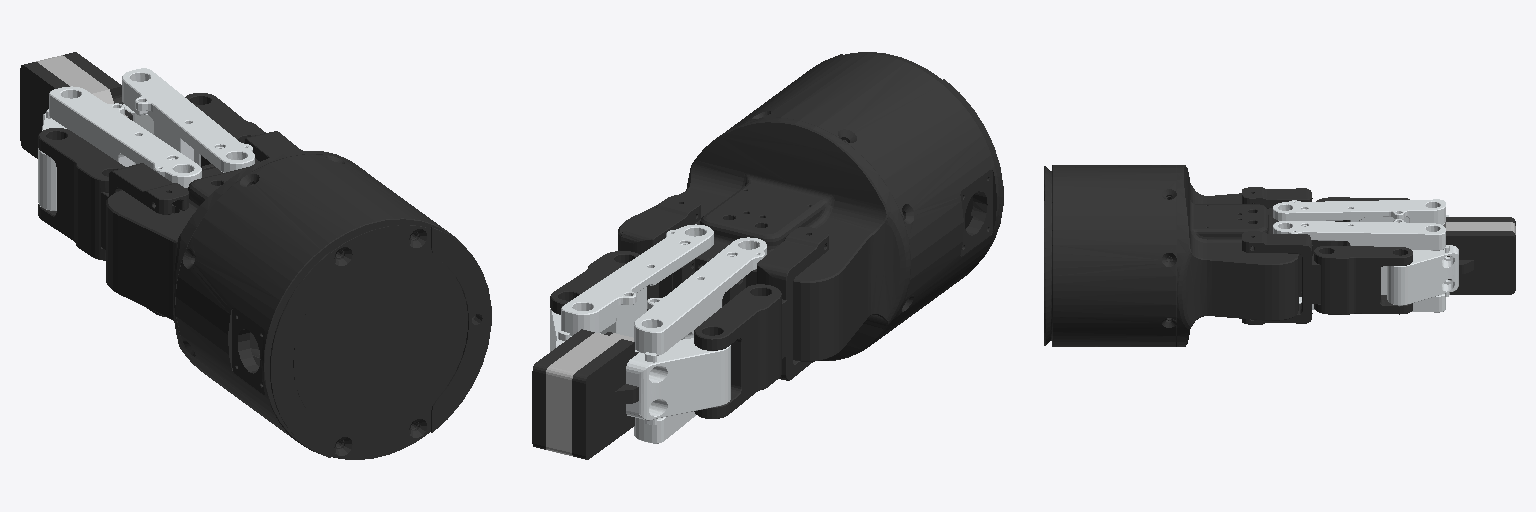
The robot description file, URDF, robot "eg01_p55_sw2urdf":
<?xml version="1.0" encoding="utf-8"?>
<!-- This URDF was automatically created by SolidWorks to URDF Exporter! Originally created by [author] ([email redacted]) 
     Commit Version: 1.6.0-4-g7f85cfe  Build Version: 1.6.7995.38578
     For more information, please see http://wiki.ros.org/sw_urdf_exporter -->
<robot
  name="eg01_p55_sw2urdf">

  <mujoco>
    <compiler meshdir="..\meshes" balanceinertia="false" discardvisual="false"/>
  </mujoco>

  <link
    name="base_link">
    <inertial>
      <origin
        xyz="7.4459E-05 0.053985 6.0593E-06"
        rpy="0 0 0" />
      <mass
        value="0.42958" />
      <inertia
        ixx="0.00029896"
        ixy="6.2368E-07"
        ixz="8.6388E-12"
        iyy="0.00041395"
        iyz="1.8987E-08"
        izz="0.0003993" />
    </inertial>
    <visual>
      <origin
        xyz="0 0 0"
        rpy="0 0 0" />
      <geometry>
        <mesh
          filename="package://eg01_p55_sw2urdf/meshes/base_link.STL" />
      </geometry>
      <material
        name="">
        <color
          rgba="0.25098 0.25098 0.25098 1" />
      </material>
    </visual>
    <collision>
      <origin
        xyz="0 0 0"
        rpy="0 0 0" />
      <geometry>
        <mesh
          filename="package://eg01_p55_sw2urdf/meshes/base_link.STL" />
      </geometry>
    </collision>
  </link>
  <link
    name="Left_L1">
    <inertial>
      <origin
        xyz="1.439E-07 -3.3486E-09 0.021139"
        rpy="0 0 0" />
      <mass
        value="0.020296" />
      <inertia
        ixx="6.3027E-06"
        ixy="4.4754E-13"
        ixz="-2.9813E-09"
        iyy="2.9263E-06"
        iyz="8.3466E-14"
        izz="3.8709E-06" />
    </inertial>
    <visual>
      <origin
        xyz="0 0 0"
        rpy="0 0 0" />
      <geometry>
        <mesh
          filename="package://eg01_p55_sw2urdf/meshes/Left_L1.STL" />
      </geometry>
      <material
        name="">
        <color
          rgba="0.25098 0.25098 0.25098 1" />
      </material>
    </visual>
    <collision>
      <origin
        xyz="0 0 0"
        rpy="0 0 0" />
      <geometry>
        <mesh
          filename="package://eg01_p55_sw2urdf/meshes/Left_L1.STL" />
      </geometry>
    </collision>
  </link>
  <joint
    name="Left_J1"
    type="revolute">
    <origin
      xyz="-0.024 0.0957 0"
      rpy="-1.5708 0 0.043669" />
    <parent
      link="base_link" />
    <child
      link="Left_L1" />
    <axis
      xyz="0 1 0" />
    <limit
      lower="-1.571"
      upper="1.571"
      effort="50"
      velocity="50" />
  </joint>
  <link
    name="Left_L2">
    <inertial>
      <origin
        xyz="-0.00064719 -2.925E-09 0.015675"
        rpy="0 0 0" />
      <mass
        value="0.023378" />
      <inertia
        ixx="4.192E-06"
        ixy="3.5171E-14"
        ixz="-9.5197E-08"
        iyy="2.3374E-06"
        iyz="1.0934E-12"
        izz="2.5072E-06" />
    </inertial>
    <visual>
      <origin
        xyz="0 0 0"
        rpy="0 0 0" />
      <geometry>
        <mesh
          filename="package://eg01_p55_sw2urdf/meshes/Left_L2.STL" />
      </geometry>
      <material
        name="">
        <color
          rgba="0.25098 0.25098 0.25098 1" />
      </material>
    </visual>
    <collision>
      <origin
        xyz="0 0 0"
        rpy="0 0 0" />
      <geometry>
        <mesh
          filename="package://eg01_p55_sw2urdf/meshes/Left_L2.STL" />
      </geometry>
    </collision>
  </link>
  <joint
    name="Left_J2"
    type="revolute">
    <origin
      xyz="0 0 0.034"
      rpy="0 0 0" />
    <parent
      link="Left_L1" />
    <child
      link="Left_L2" />
    <axis
      xyz="0 -1 0" />
    <limit
      lower="-1.571"
      upper="1.571"
      effort="50"
      velocity="50" />
  </joint>
  <link
    name="Left_L3">
    <inertial>
      <origin
        xyz="-0.0011614 -1.4301E-10 0.011796"
        rpy="0 0 0" />
      <mass
        value="0.021391" />
      <inertia
        ixx="2.4884E-06"
        ixy="2.5608E-13"
        ixz="2.0468E-07"
        iyy="2.147E-06"
        iyz="-4.9199E-13"
        izz="1.0866E-06" />
    </inertial>
    <visual>
      <origin
        xyz="0 0 0"
        rpy="0 0 0" />
      <geometry>
        <mesh
          filename="package://eg01_p55_sw2urdf/meshes/Left_L3.STL" />
      </geometry>
      <material
        name="">
        <color
          rgba="0.89804 0.91765 0.92941 1" />
      </material>
    </visual>
    <collision>
      <origin
        xyz="0 0 0"
        rpy="0 0 0" />
      <geometry>
        <mesh
          filename="package://eg01_p55_sw2urdf/meshes/Left_L3.STL" />
      </geometry>
    </collision>
  </link>
  <joint
    name="Left_J3"
    type="revolute">
    <origin
      xyz="0 0 0.034"
      rpy="0 0.79468 0" />
    <parent
      link="Left_L2" />
    <child
      link="Left_L3" />
    <axis
      xyz="0 -1 0" />
    <limit
      lower="-1.571"
      upper="1.571"
      effort="50"
      velocity="50" />
  </joint>
  <link
    name="Left_finger_plate">
    <inertial>
      <origin
        xyz="-5.8755E-16 -0.016487 -0.0025113"
        rpy="0 0 0" />
      <mass
        value="0.015469" />
      <inertia
        ixx="1.8941E-06"
        ixy="1.2722E-21"
        ixz="1.1212E-23"
        iyy="1.1054E-06"
        iyz="2.5185E-08"
        izz="2.9218E-06" />
    </inertial>
    <visual>
      <origin
        xyz="0 0 0"
        rpy="0 0 0" />
      <geometry>
        <mesh
          filename="package://eg01_p55_sw2urdf/meshes/Left_finger_plate.STL" />
      </geometry>
      <material
        name="">
        <color
          rgba="0.25098 0.25098 0.25098 1" />
      </material>
    </visual>
    <collision>
      <origin
        xyz="0 0 0"
        rpy="0 0 0" />
      <geometry>
        <mesh
          filename="package://eg01_p55_sw2urdf/meshes/Left_finger_plate.STL" />
      </geometry>
    </collision>
  </link>
  <joint
    name="fix_Left_finger_plate"
    type="fixed">
    <origin
      xyz="0.00014585 0 0.02476"
      rpy="-2.3218 0 1.5708" />
    <parent
      link="Left_L3" />
    <child
      link="Left_finger_plate" />
    <axis
      xyz="0 0 0" />
  </joint>
  <link
    name="Left_finger_rubber">
    <inertial>
      <origin
        xyz="-5.8782E-16 -0.01436 -0.0075"
        rpy="0 0 0" />
      <mass
        value="0.0075929" />
      <inertia
        ixx="1.1398E-06"
        ixy="1.0754E-21"
        ixz="-5.8666E-23"
        iyy="5.2929E-07"
        iyz="1.1938E-17"
        izz="1.6374E-06" />
    </inertial>
    <visual>
      <origin
        xyz="0 0 0"
        rpy="0 0 0" />
      <geometry>
        <mesh
          filename="package://eg01_p55_sw2urdf/meshes/Left_finger_rubber.STL" />
      </geometry>
      <material
        name="">
        <color
          rgba="0.75294 0.75294 0.75294 1" />
      </material>
    </visual>
    <collision>
      <origin
        xyz="0 0 0"
        rpy="0 0 0" />
      <geometry>
        <mesh
          filename="package://eg01_p55_sw2urdf/meshes/Left_finger_rubber.STL" />
      </geometry>
    </collision>
  </link>
  <joint
    name="fix_Left_finger_rubber"
    type="fixed">
    <origin
      xyz="0 0 0"
      rpy="0 0 0" />
    <parent
      link="Left_finger_plate" />
    <child
      link="Left_finger_rubber" />
    <axis
      xyz="0 0 0" />
  </joint>
  <link
    name="Left_L4">
    <inertial>
      <origin
        xyz="-0.00077517 1.1835E-09 0.040195"
        rpy="0 0 0" />
      <mass
        value="0.041435" />
      <inertia
        ixx="2.2314E-05"
        ixy="-1.0897E-13"
        ixz="1.1302E-08"
        iyy="1.394E-05"
        iyz="-6.1441E-13"
        izz="9.2922E-06" />
    </inertial>
    <visual>
      <origin
        xyz="0 0 0"
        rpy="0 0 0" />
      <geometry>
        <mesh
          filename="package://eg01_p55_sw2urdf/meshes/Left_L4.STL" />
      </geometry>
      <material
        name="">
        <color
          rgba="0.89804 0.91765 0.92941 1" />
      </material>
    </visual>
    <collision>
      <origin
        xyz="0 0 0"
        rpy="0 0 0" />
      <geometry>
        <mesh
          filename="package://eg01_p55_sw2urdf/meshes/Left_L4.STL" />
      </geometry>
    </collision>
  </link>
  <joint
    name="Left_J4"
    type="revolute">
    <origin
      xyz="-0.01 0.1107 0"
      rpy="-1.5708 0 0.043633" />
    <parent
      link="base_link" />
    <child
      link="Left_L4" />
    <axis
      xyz="0 1 0" />
    <limit
      lower="-1.571"
      upper="1.571"
      effort="50"
      velocity="50" />
  </joint>
  <link
    name="Right_L1">
    <inertial>
      <origin
        xyz="9.3904E-08 -3.3486E-09 0.021139"
        rpy="0 0 0" />
      <mass
        value="0.020296" />
      <inertia
        ixx="6.3027E-06"
        ixy="4.4754E-13"
        ixz="-2.9813E-09"
        iyy="2.9263E-06"
        iyz="8.3466E-14"
        izz="3.8709E-06" />
    </inertial>
    <visual>
      <origin
        xyz="0 0 0"
        rpy="0 0 0" />
      <geometry>
        <mesh
          filename="package://eg01_p55_sw2urdf/meshes/Right_L1.STL" />
      </geometry>
      <material
        name="">
        <color
          rgba="0.25098 0.25098 0.25098 1" />
      </material>
    </visual>
    <collision>
      <origin
        xyz="0 0 0"
        rpy="0 0 0" />
      <geometry>
        <mesh
          filename="package://eg01_p55_sw2urdf/meshes/Right_L1.STL" />
      </geometry>
    </collision>
  </link>
  <joint
    name="Right_J1"
    type="revolute">
    <origin
      xyz="0.024 0.0957 0"
      rpy="1.5708 0 3.0979" />
    <parent
      link="base_link" />
    <child
      link="Right_L1" />
    <axis
      xyz="0 -1 0" />
    <limit
      lower="-1.571"
      upper="1.571"
      effort="50"
      velocity="50" />
  </joint>
  <link
    name="Right_L2">
    <inertial>
      <origin
        xyz="-0.00064719 -2.925E-09 0.015675"
        rpy="0 0 0" />
      <mass
        value="0.023378" />
      <inertia
        ixx="4.192E-06"
        ixy="3.5171E-14"
        ixz="-9.5197E-08"
        iyy="2.3374E-06"
        iyz="1.0934E-12"
        izz="2.5072E-06" />
    </inertial>
    <visual>
      <origin
        xyz="0 0 0"
        rpy="0 0 0" />
      <geometry>
        <mesh
          filename="package://eg01_p55_sw2urdf/meshes/Right_L2.STL" />
      </geometry>
      <material
        name="">
        <color
          rgba="0.25098 0.25098 0.25098 1" />
      </material>
    </visual>
    <collision>
      <origin
        xyz="0 0 0"
        rpy="0 0 0" />
      <geometry>
        <mesh
          filename="package://eg01_p55_sw2urdf/meshes/Right_L2.STL" />
      </geometry>
    </collision>
  </link>
  <joint
    name="Right_J2"
    type="revolute">
    <origin
      xyz="0 0 0.0339999999999633"
      rpy="0 0 0" />
    <parent
      link="Right_L1" />
    <child
      link="Right_L2" />
    <axis
      xyz="0 -1 0" />
    <limit
      lower="-1.571"
      upper="1.571"
      effort="50"
      velocity="50" />
  </joint>
  <link
    name="Right_L3">
    <inertial>
      <origin
        xyz="-0.0011614 -1.4301E-10 0.011796"
        rpy="0 0 0" />
      <mass
        value="0.021391" />
      <inertia
        ixx="2.4884E-06"
        ixy="2.5608E-13"
        ixz="2.0468E-07"
        iyy="2.147E-06"
        iyz="-4.9199E-13"
        izz="1.0866E-06" />
    </inertial>
    <visual>
      <origin
        xyz="0 0 0"
        rpy="0 0 0" />
      <geometry>
        <mesh
          filename="package://eg01_p55_sw2urdf/meshes/Right_L3.STL" />
      </geometry>
      <material
        name="">
        <color
          rgba="0.89804 0.91765 0.92941 1" />
      </material>
    </visual>
    <collision>
      <origin
        xyz="0 0 0"
        rpy="0 0 0" />
      <geometry>
        <mesh
          filename="package://eg01_p55_sw2urdf/meshes/Right_L3.STL" />
      </geometry>
    </collision>
  </link>
  <joint
    name="Right_J3"
    type="revolute">
    <origin
      xyz="0 0 0.0339999999999633"
      rpy="0 0.79467972163649 0" />
    <parent
      link="Right_L2" />
    <child
      link="Right_L3" />
    <axis
      xyz="0 -1 0" />
    <limit
      lower="-1.571"
      upper="1.571"
      effort="50"
      velocity="50" />
  </joint>
  <link
    name="Right_finger_plate">
    <inertial>
      <origin
        xyz="5.9982E-16 0.016487 0.0025112"
        rpy="0 0 0" />
      <mass
        value="0.015469" />
      <inertia
        ixx="1.8941E-06"
        ixy="1.248E-21"
        ixz="-1.3917E-22"
        iyy="1.1054E-06"
        iyz="2.5193E-08"
        izz="2.9218E-06" />
    </inertial>
    <visual>
      <origin
        xyz="0 0 0"
        rpy="0 0 0" />
      <geometry>
        <mesh
          filename="package://eg01_p55_sw2urdf/meshes/Right_finger_plate.STL" />
      </geometry>
      <material
        name="">
        <color
          rgba="0.25098 0.25098 0.25098 1" />
      </material>
    </visual>
    <collision>
      <origin
        xyz="0 0 0"
        rpy="0 0 0" />
      <geometry>
        <mesh
          filename="package://eg01_p55_sw2urdf/meshes/Right_finger_plate.STL" />
      </geometry>
    </collision>
  </link>
  <joint
    name="fix_Right_finger_plate"
    type="fixed">
    <origin
      xyz="0.000145845916195486 0 0.0247601331310644"
      rpy="0.819785189014245 0 1.5707963267949" />
    <parent
      link="Right_L3" />
    <child
      link="Right_finger_plate" />
    <axis
      xyz="0 0 0" />
  </joint>
  <link
    name="Right_finger_rubber">
    <inertial>
      <origin
        xyz="-5.9952E-16 -0.01436 -0.0075001"
        rpy="0 0 0" />
      <mass
        value="0.0075929" />
      <inertia
        ixx="1.1398E-06"
        ixy="1.1153E-21"
        ixz="8.4459E-23"
        iyy="5.2929E-07"
        iyz="-8.9523E-12"
        izz="1.6374E-06" />
    </inertial>
    <visual>
      <origin
        xyz="0 0 0"
        rpy="0 0 0" />
      <geometry>
        <mesh
          filename="package://eg01_p55_sw2urdf/meshes/Right_finger_rubber.STL" />
      </geometry>
      <material
        name="">
        <color
          rgba="0.75294 0.75294 0.75294 1" />
      </material>
    </visual>
    <collision>
      <origin
        xyz="0 0 0"
        rpy="0 0 0" />
      <geometry>
        <mesh
          filename="package://eg01_p55_sw2urdf/meshes/Right_finger_rubber.STL" />
      </geometry>
    </collision>
  </link>
  <joint
    name="fix_Right_finger_rubber"
    type="fixed">
    <origin
      xyz="0 0 0.0149999999998809"
      rpy="0 0 -3.14159265358979" />
    <parent
      link="Right_finger_plate" />
    <child
      link="Right_finger_rubber" />
    <axis
      xyz="0 0 0" />
  </joint>
  <link
    name="Right_L4">
    <inertial>
      <origin
        xyz="-0.00077517 1.1835E-09 0.040195"
        rpy="0 0 0" />
      <mass
        value="0.041435" />
      <inertia
        ixx="2.2314E-05"
        ixy="-1.0897E-13"
        ixz="1.1302E-08"
        iyy="1.394E-05"
        iyz="-6.1441E-13"
        izz="9.2922E-06" />
    </inertial>
    <visual>
      <origin
        xyz="0 0 0"
        rpy="0 0 0" />
      <geometry>
        <mesh
          filename="package://eg01_p55_sw2urdf/meshes/Right_L4.STL" />
      </geometry>
      <material
        name="">
        <color
          rgba="0.89804 0.91765 0.92941 1" />
      </material>
    </visual>
    <collision>
      <origin
        xyz="0 0 0"
        rpy="0 0 0" />
      <geometry>
        <mesh
          filename="package://eg01_p55_sw2urdf/meshes/Right_L4.STL" />
      </geometry>
    </collision>
  </link>
  <joint
    name="Right_J4"
    type="revolute">
    <origin
      xyz="0.01 0.1107 0"
      rpy="1.5708 0 3.098" />
    <parent
      link="base_link" />
    <child
      link="Right_L4" />
    <axis
      xyz="0 -1 0" />
    <limit
      lower="-1.571"
      upper="1.571"
      effort="50"
      velocity="50" />
  </joint>
</robot>

--- Render facts (derived) ---
Views: 3 orthographic renders of the robot side by side, from view 1: azimuth 30°, elevation 25°; view 2: azimuth 150°, elevation 25°; view 3: azimuth 270°, elevation 25°.
Robot: eg01_p55_sw2urdf — 13 links, 12 joints (8 revolute, 4 fixed); root link base_link; default pose: every joint at zero.
Links seen in each view (by area): view 1: base_link, Left_L4, Left_L2, Right_L4, Left_L1, Left_finger_plate, Right_L2, Left_L3, Right_L1, Right_finger_plate, Right_finger_rubber, Left_finger_rubber; view 2: base_link, Left_L4, Left_L2, Right_L4, Left_L3, Left_finger_plate, Left_L1, Right_L1, Right_finger_plate, Right_finger_rubber, Left_finger_rubber, Right_L2; view 3: base_link, Right_L2, Right_L4, Right_finger_plate, Left_L4, Right_L3, Right_L1, Left_L1.
Boxes of the visible links, x1,y1,x2,y2 form: base_link: (106,150,491,459); Left_L4: (49,86,201,187); Left_L2: (38,128,124,260); Right_L4: (122,68,254,172); Left_L1: (101,163,188,316); Left_finger_plate: (20,62,69,158); Right_L2: (185,93,265,143); Left_L3: (38,109,66,210); Right_L1: (245,131,301,161); Right_finger_plate: (63,52,132,120); Right_finger_rubber: (49,55,127,117); Left_finger_rubber: (36,58,97,97); base_link: (618,52,1003,361); Left_L4: (634,237,766,443); Left_L2: (694,284,781,418); Right_L4: (561,224,713,337); Left_L3: (626,338,730,424); Left_finger_plate: (572,339,638,459); Left_L1: (757,227,828,380); Right_L1: (621,195,700,310); Right_finger_plate: (532,329,612,449); Right_finger_rubber: (546,333,625,453); Left_finger_rubber: (559,336,633,455); Right_L2: (550,251,639,314); base_link: (1044,165,1319,346); Right_L2: (1314,246,1412,314); Right_L4: (1273,219,1445,312); Right_finger_plate: (1446,231,1515,294); Left_L4: (1273,199,1445,224); Right_L3: (1387,245,1458,305); Right_L1: (1242,231,1320,324); Left_L1: (1242,187,1338,245).
Bounding box of the posed robot: 0.084 × 0.2169 × 0.084 m (x, y, z).
Meshes: 13 distinct files referenced, 13 mesh visuals loaded (13 binary STL).